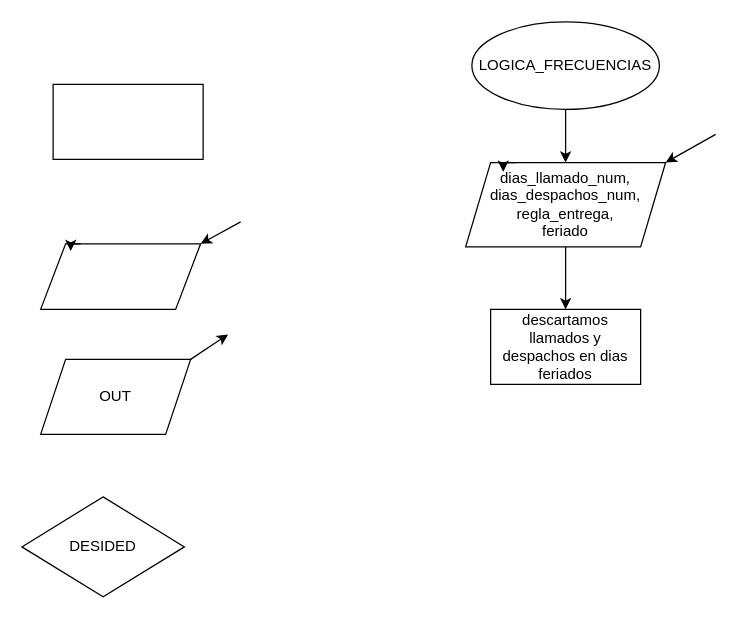
Image size: 748x619. Some labels were removed from this diagram. The box of each missing label's shape, as (x1, y1, x2, y2) in pixels:
ACCION: (52, 83, 203, 159)
IN: (39, 242, 201, 309)
